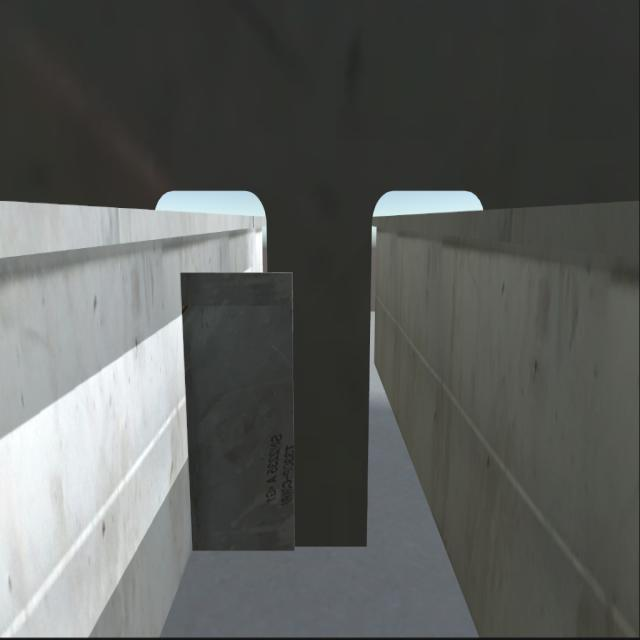fillet_yong_jeop_jang: (181, 529, 375, 558)
longi_yong_jeop_jang: (179, 270, 193, 550)
plate_CP01: (192, 276, 293, 546)
